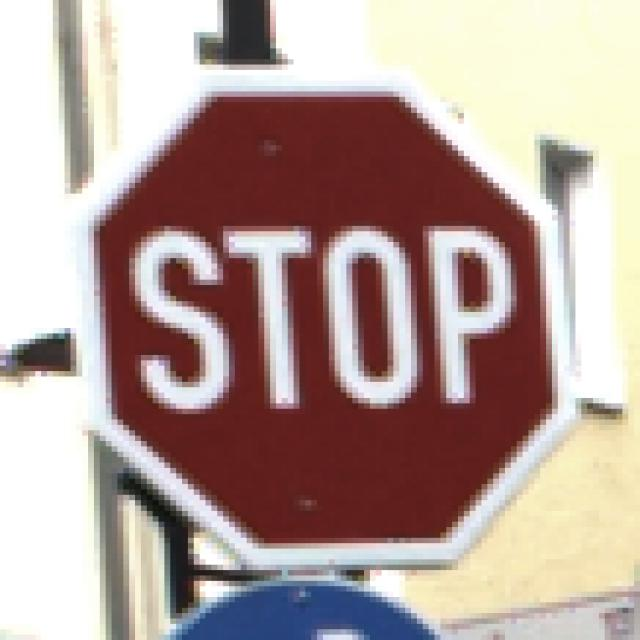STOP: (60, 60, 588, 587)
